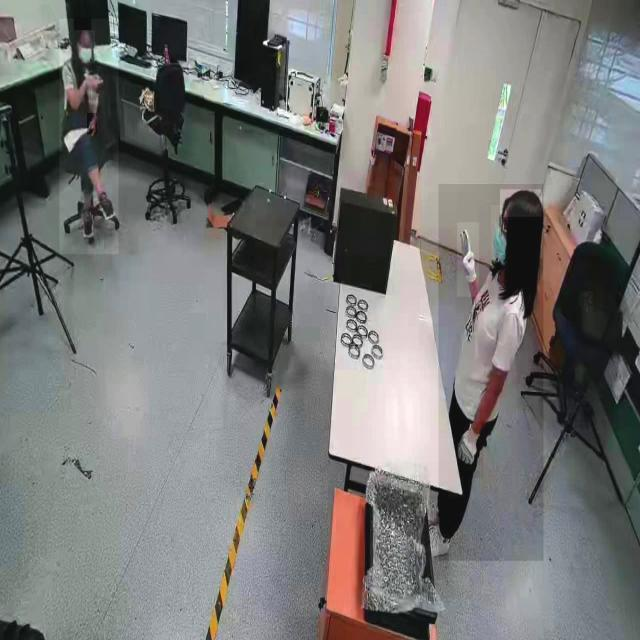face_mask: (491, 205, 513, 267), (81, 30, 95, 64)
hand_glove: (457, 222, 479, 297), (457, 421, 484, 479)
hand_noglove: (85, 72, 104, 90), (87, 113, 97, 135)
head_nohelmet: (500, 189, 542, 218), (74, 17, 92, 31)
person: (438, 184, 544, 562), (59, 19, 119, 255)
shoes: (79, 202, 99, 244), (98, 187, 116, 224)
